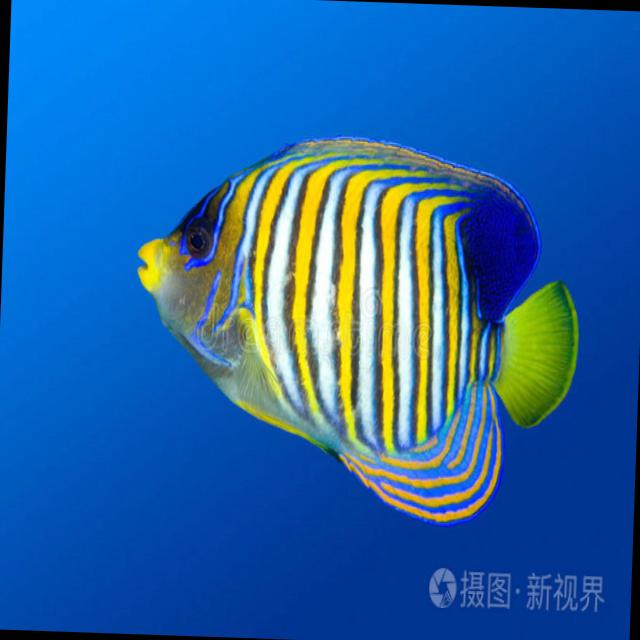AngelFish: (130, 132, 585, 530)
